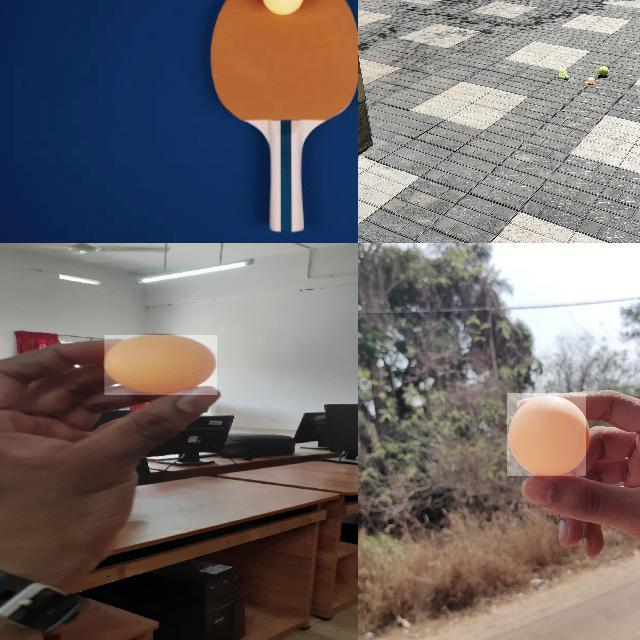ping-pong-ball: (104, 334, 219, 396), (507, 393, 587, 477), (261, 0, 303, 15), (588, 77, 596, 85)
